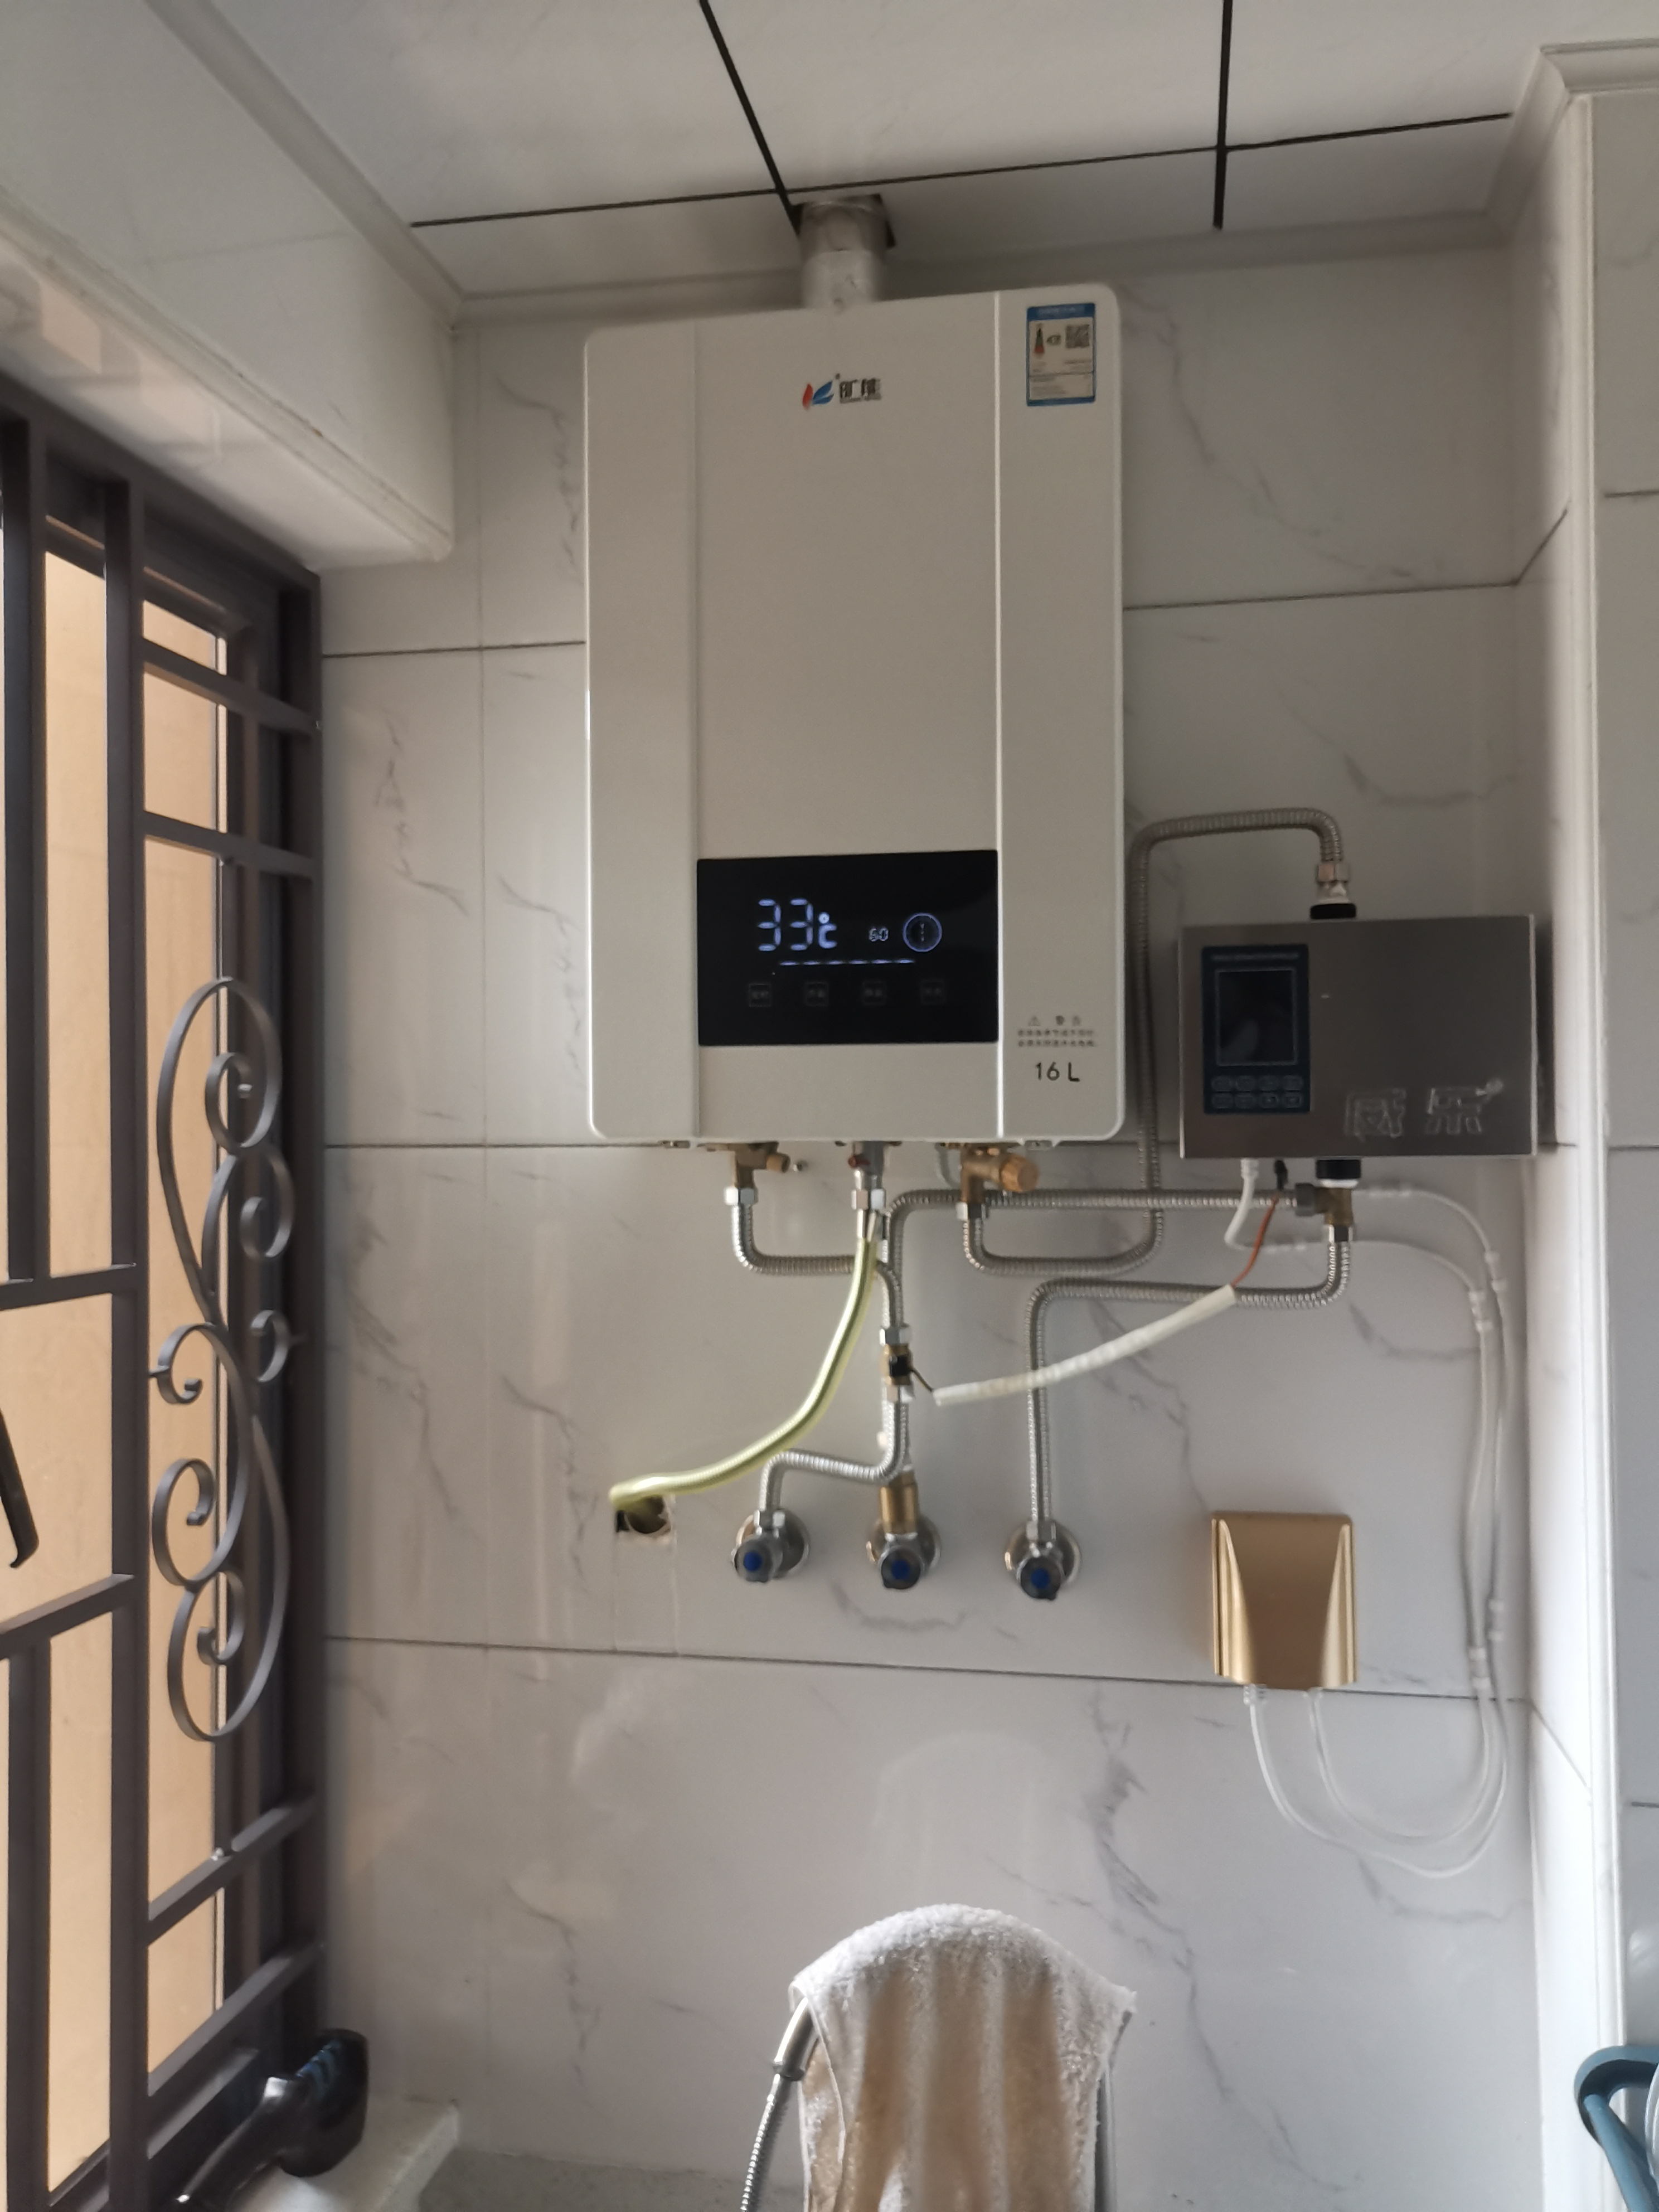loudou: (793, 366, 903, 423)
